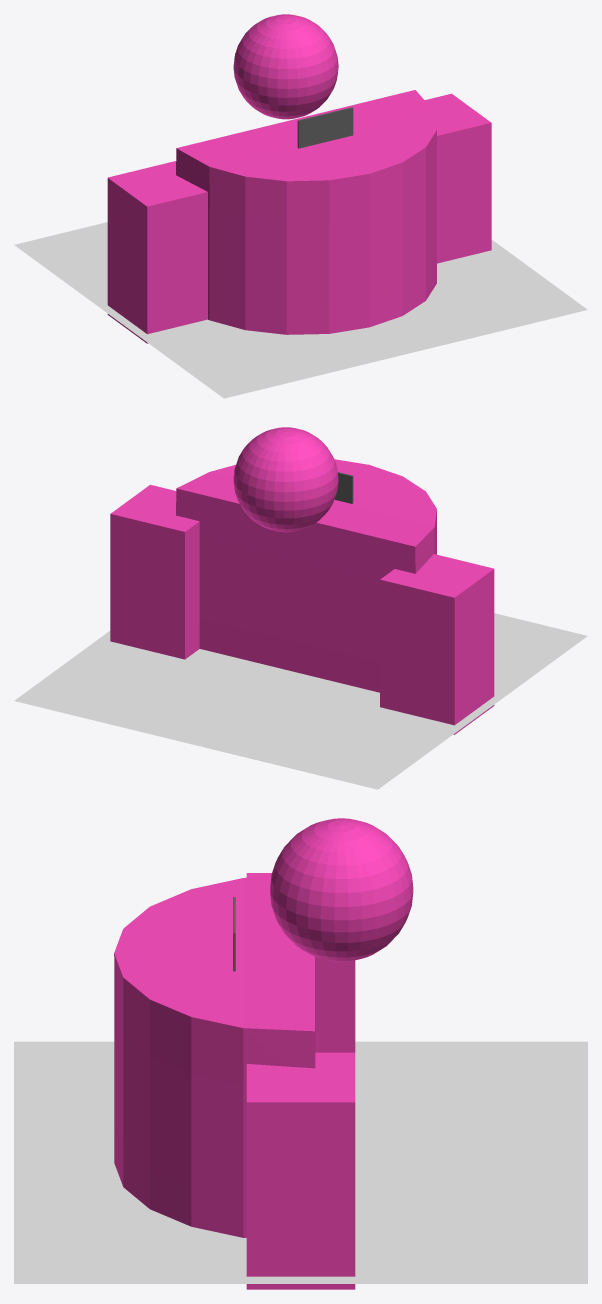
Rendered from dj-booth.dae.
3 views of the same model, one above another, from view 1: azimuth 30°, elevation 25°; view 2: azimuth 150°, elevation 25°; view 3: azimuth 270°, elevation 25° (orthographic). The views are drawn at different scales.
Parts seen in each view (by area): view 1: Table, Floor, Box, Sphere, Box.001, Laptop; view 2: Floor, Table, Box, Box.001, Sphere, Laptop; view 3: Floor, Table, Box.001, Sphere, Box.
Boxes of the visible parts, x1,y1,x2,y2 form: Table: [176, 90, 436, 334]; Floor: [14, 222, 587, 398]; Box: [107, 161, 207, 343]; Sphere: [233, 14, 338, 119]; Box.001: [425, 93, 491, 263]; Laptop: [297, 107, 353, 148]; Floor: [14, 613, 587, 789]; Table: [176, 459, 436, 692]; Box: [380, 554, 494, 734]; Box.001: [110, 484, 199, 659]; Sphere: [233, 427, 338, 532]; Laptop: [334, 472, 353, 503]; Floor: [14, 1041, 587, 1283]; Table: [114, 875, 315, 1237]; Box.001: [246, 1052, 355, 1289]; Sphere: [270, 818, 413, 961]; Box: [246, 873, 355, 1052].
Bounding box in the file's own units: 2 × 2 × 1.35.
